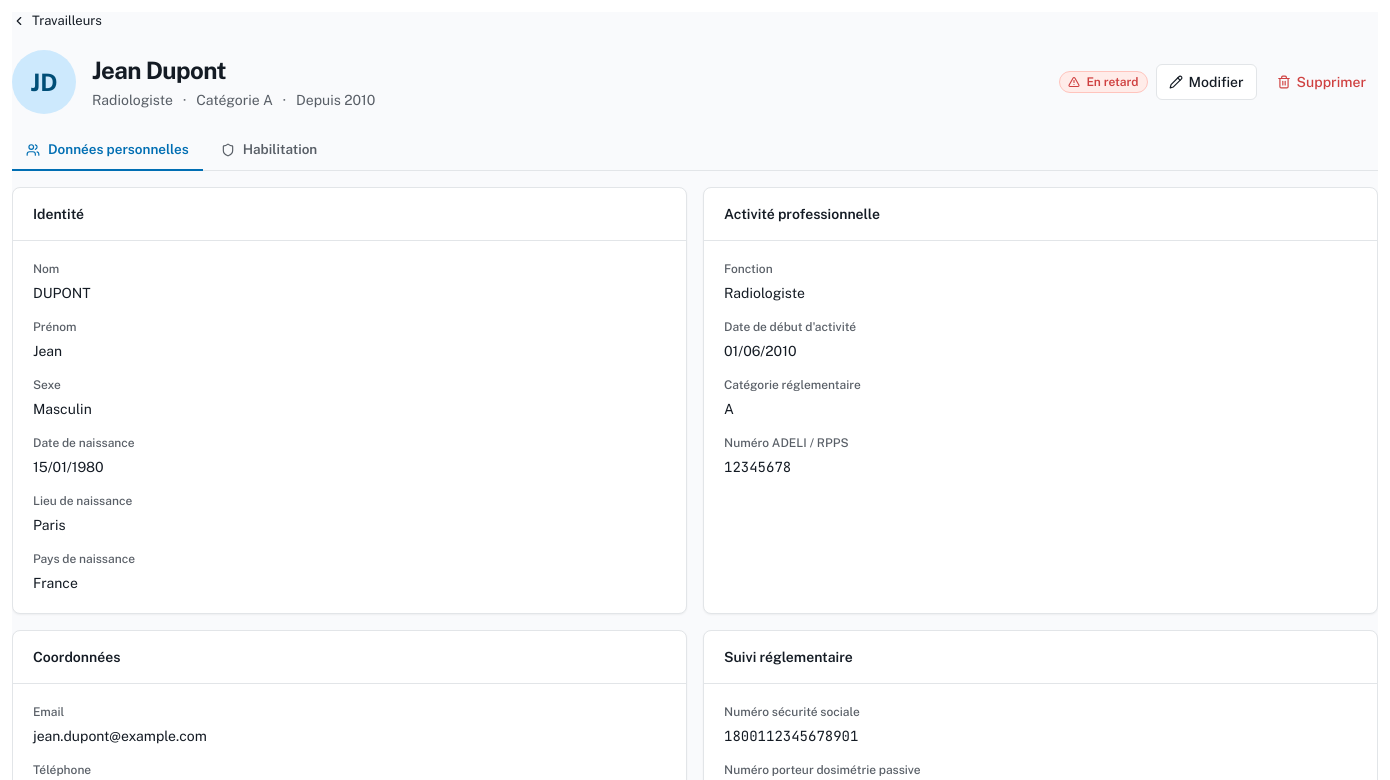
Scenario: HabilitationTab and Competences › should verify all 5 habilitation items are present
Click the button "Habilitation" at [269, 150], box [207,130,331,171]
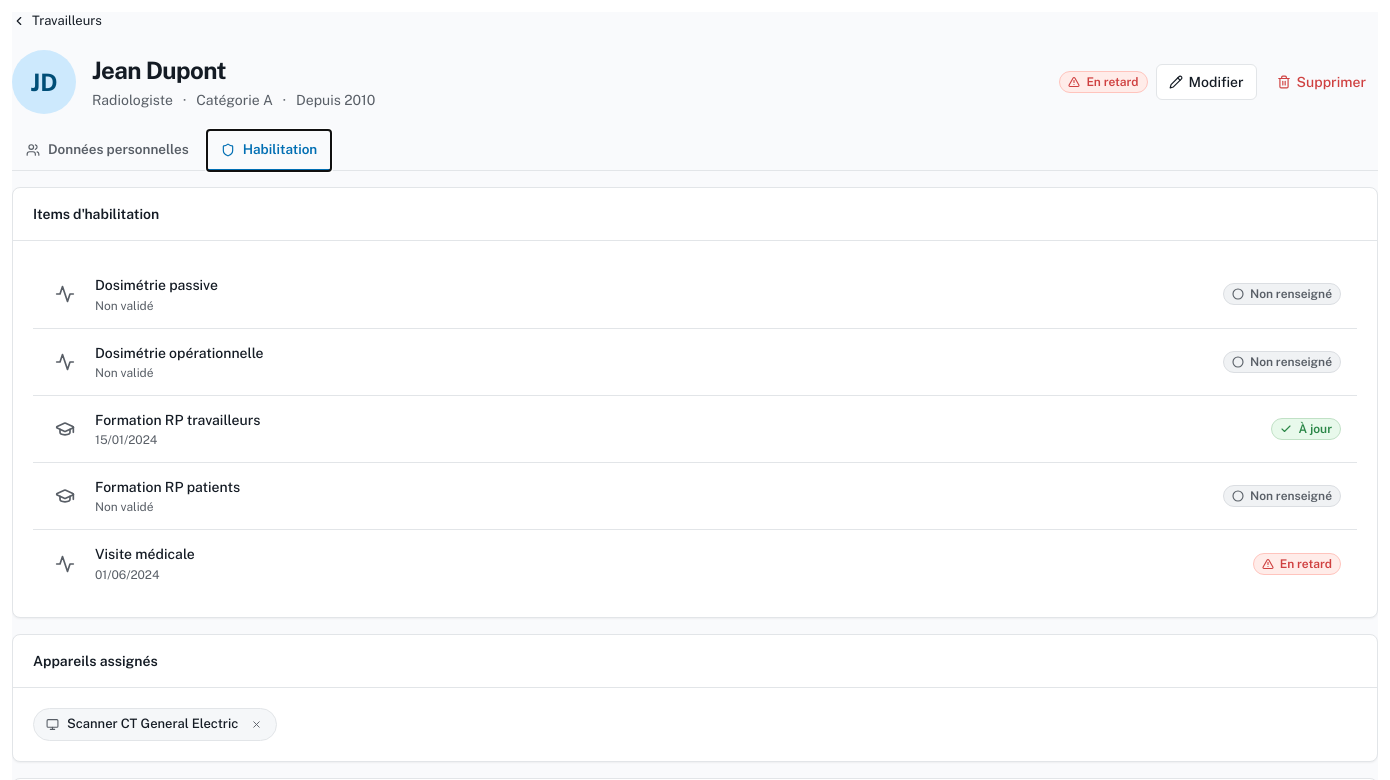
Expected: the text "Items d'habilitation" is shown, [33,204,159,224]
Expected: the text "Formation RP travailleurs" is shown, [95,412,260,428]
Expected: the text "Dosimétrie opérationnelle" is shown, [95,345,264,361]
